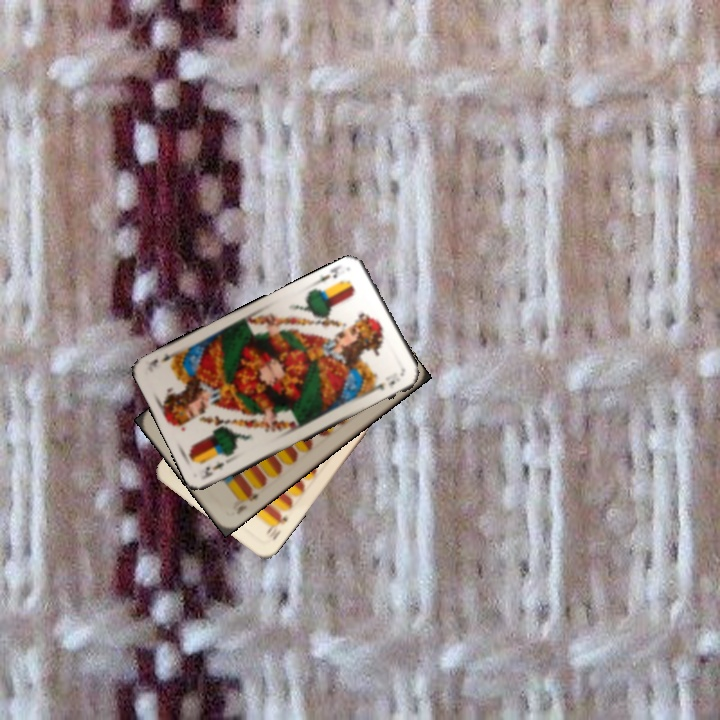E10: (262, 508, 291, 543), (232, 486, 261, 517)
EK: (313, 262, 344, 286), (200, 457, 226, 481)
